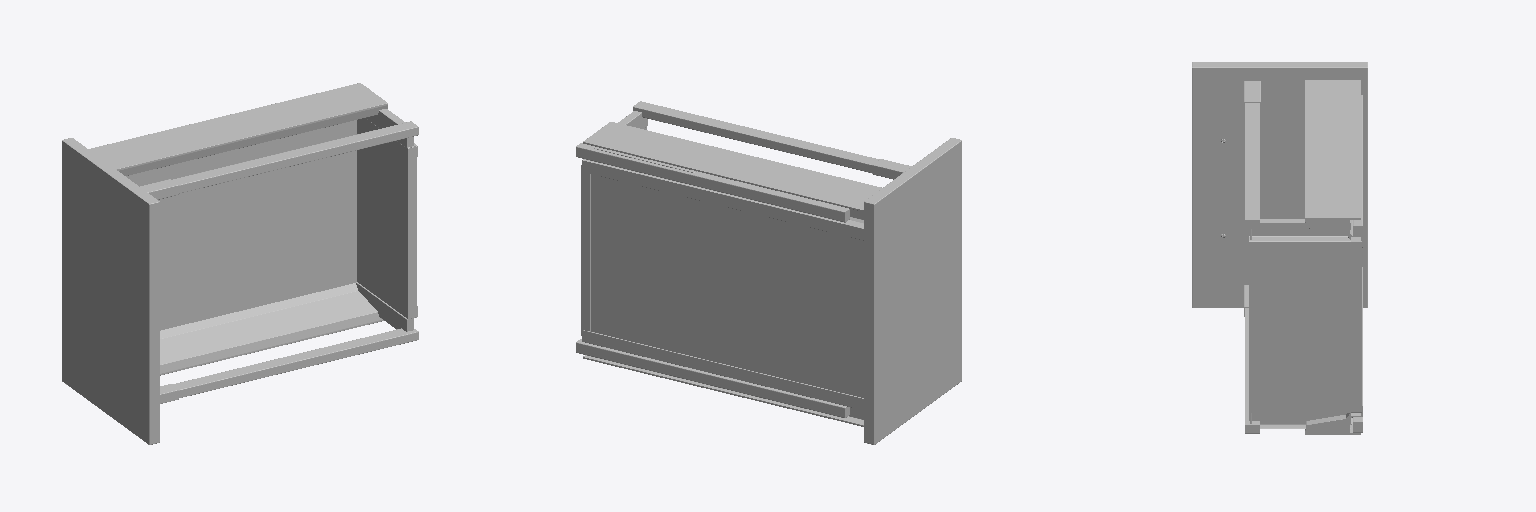
File: SM_Kitchen_10_Drawer_02.obj
The picture shows the model from 3 angles: view 1: azimuth 30°, elevation 25°; view 2: azimuth 150°, elevation 25°; view 3: azimuth 270°, elevation 25°; orthographic projection.
Visible parts, largest first — view 1: SM_Kitchen_10_Drawer_02_SM_Kitchen_10_Base_Drawer_02; view 2: SM_Kitchen_10_Drawer_02_SM_Kitchen_10_Base_Drawer_02; view 3: SM_Kitchen_10_Drawer_02_SM_Kitchen_10_Base_Drawer_02.
Part boxes in pixels (bbox=[...]): SM_Kitchen_10_Drawer_02_SM_Kitchen_10_Base_Drawer_02: bbox=[62, 83, 418, 444]; SM_Kitchen_10_Drawer_02_SM_Kitchen_10_Base_Drawer_02: bbox=[576, 101, 961, 444]; SM_Kitchen_10_Drawer_02_SM_Kitchen_10_Base_Drawer_02: bbox=[1192, 62, 1367, 434].
Size of the model in its own units: 0.5199 by 0.398 by 0.263.